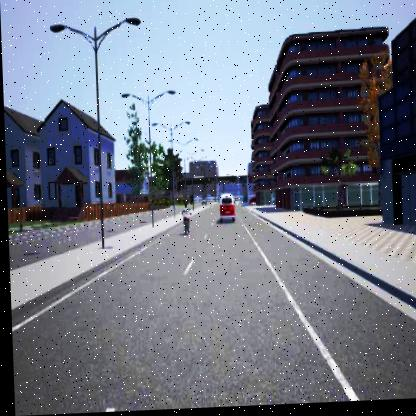bike: (178, 204, 191, 235)
vehicle: (217, 195, 235, 224)
